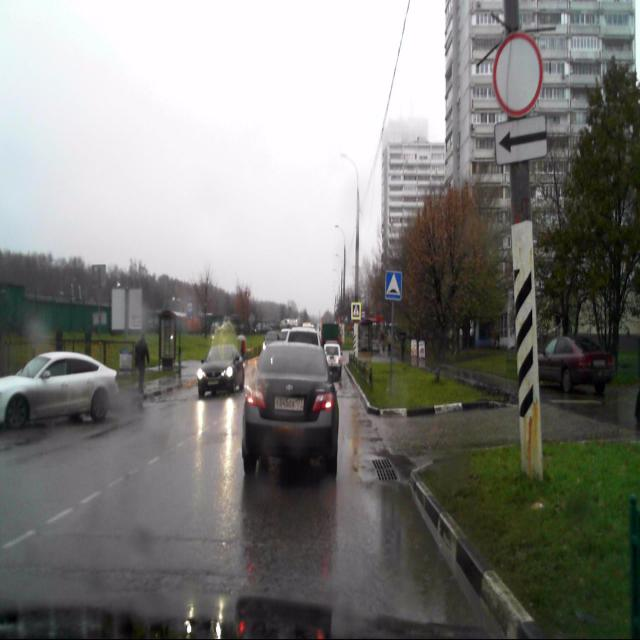road sign: (494, 116, 546, 165), (384, 271, 401, 300), (352, 302, 360, 320)
